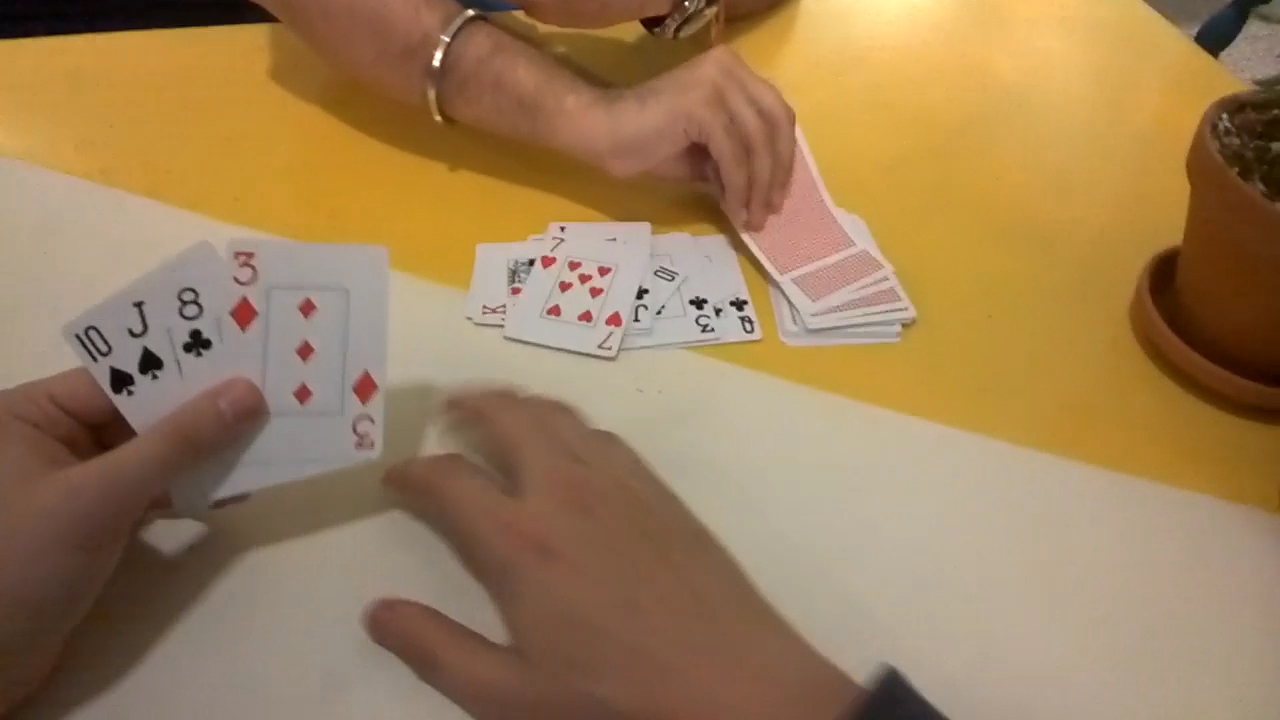hand: (367, 387, 854, 717), (0, 365, 261, 711), (610, 54, 797, 232), (515, 1, 668, 28)
